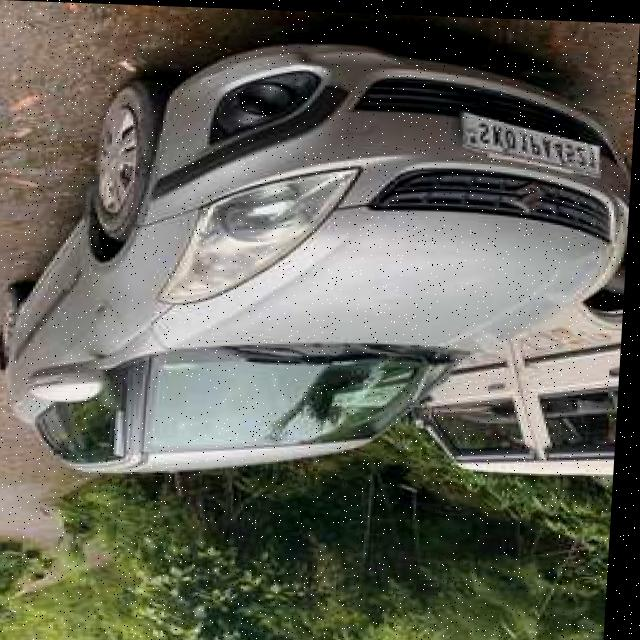plate: (456, 104, 611, 176)
